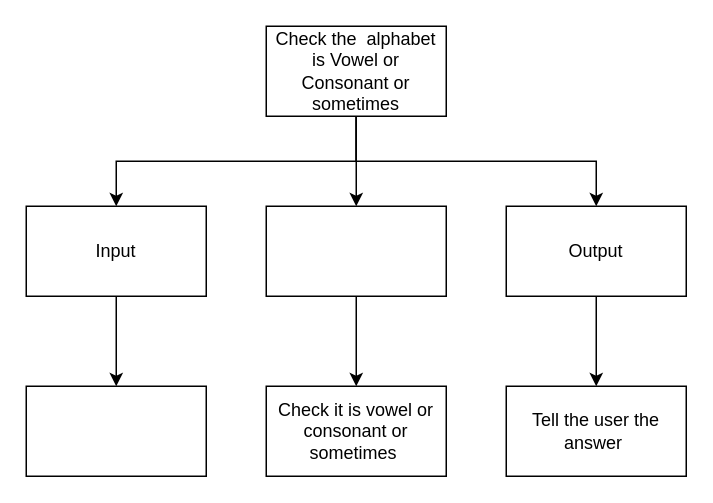
The diagram is 713 pixels wide and 503 high, and some of its shapes have lost their labels. The box of each missing label's shape, as (x1, y1, x2, y2) in pixels:
Get an alphabet from the user: (25, 385, 206, 476)
Process: (265, 205, 446, 296)
